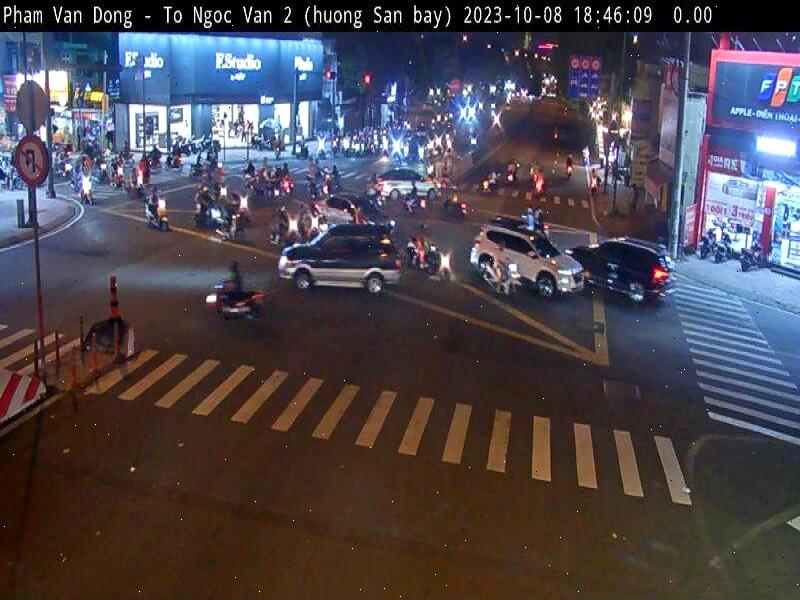car: (470, 224, 589, 301), (280, 227, 403, 296), (592, 240, 672, 298), (217, 288, 270, 321)
